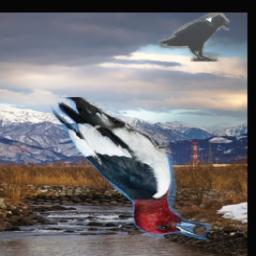Crow: (159, 13, 230, 62)
Woodpecker: (50, 97, 212, 241)
